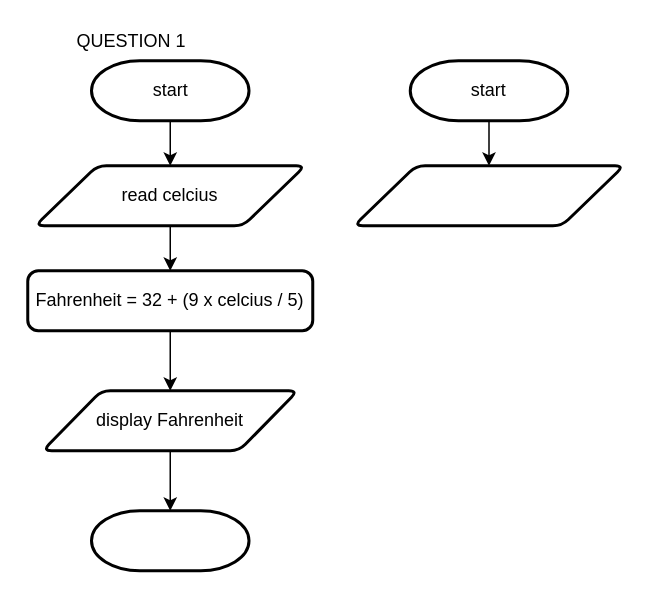
The diagram is 651 pixels wide and 597 high, and some of its shapes have lost their labels. The box of each missing label's shape, as (x1, y1, x2, y2) in pixels:
read steps, duration: (352, 164, 625, 226)
stop: (89, 508, 250, 572)
